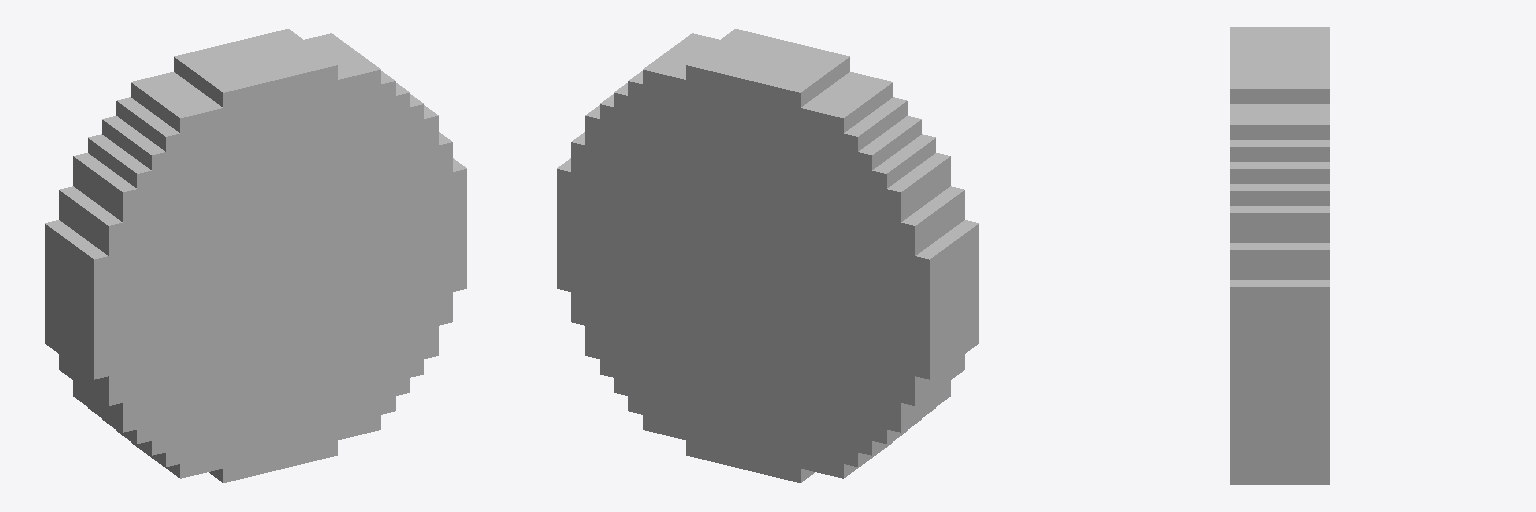
Rendered from button.obj.
3 views of the same model, side by side, from view 1: azimuth 30°, elevation 25°; view 2: azimuth 150°, elevation 25°; view 3: azimuth 270°, elevation 25° (orthographic).
Bounding box in the file's own units: 26 × 26 × 6.